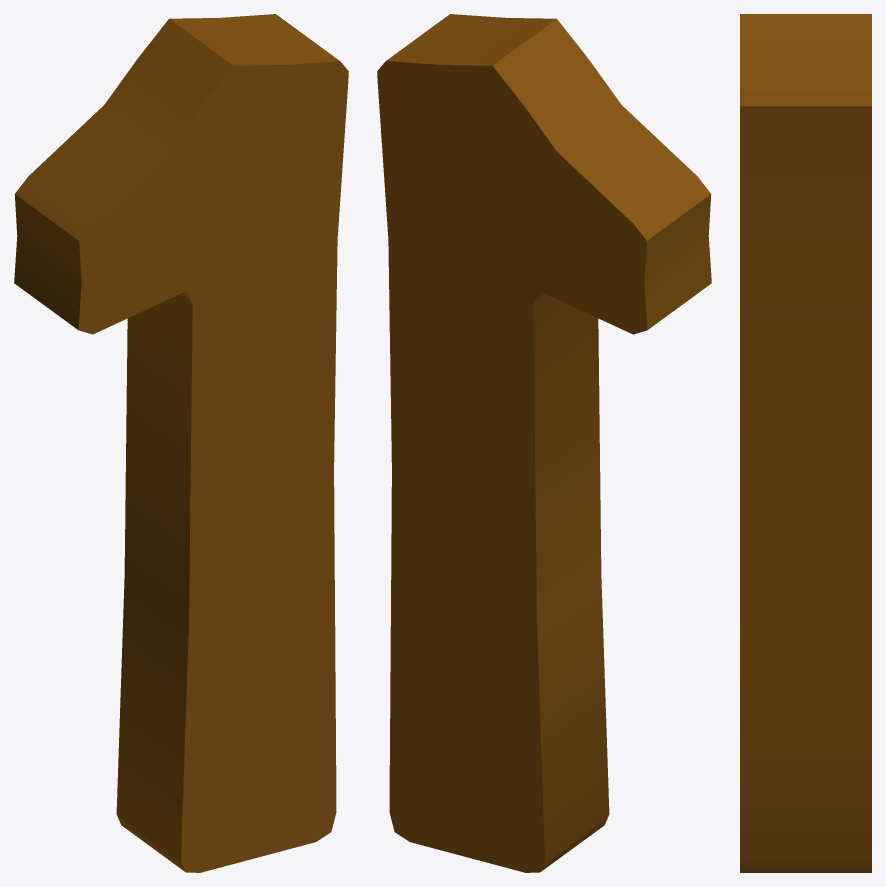
The model's file is original-21.obj.
The picture shows the model from 3 angles, left to right: view 1: azimuth 30°, elevation 25°; view 2: azimuth 150°, elevation 25°; view 3: azimuth 270°, elevation 25°; orthographic projection. The views are drawn at different scales.
Parts seen in each view (by area): view 1: mesh74/mesh74-geometry#mesh74-geometry; view 2: mesh74/mesh74-geometry#mesh74-geometry; view 3: mesh74/mesh74-geometry#mesh74-geometry.
Part boxes in pixels (x1=…): mesh74/mesh74-geometry#mesh74-geometry: x1=14, y1=14, x2=348, y2=872; mesh74/mesh74-geometry#mesh74-geometry: x1=377, y1=14, x2=711, y2=872; mesh74/mesh74-geometry#mesh74-geometry: x1=740, y1=14, x2=871, y2=872.
Size of the model in its own units: 0.0294 by 0.0831 by 0.0121.
